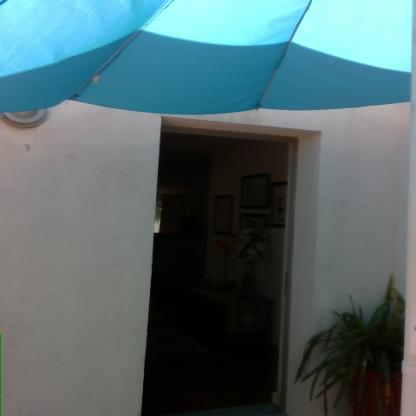open: (122, 110, 339, 416)
